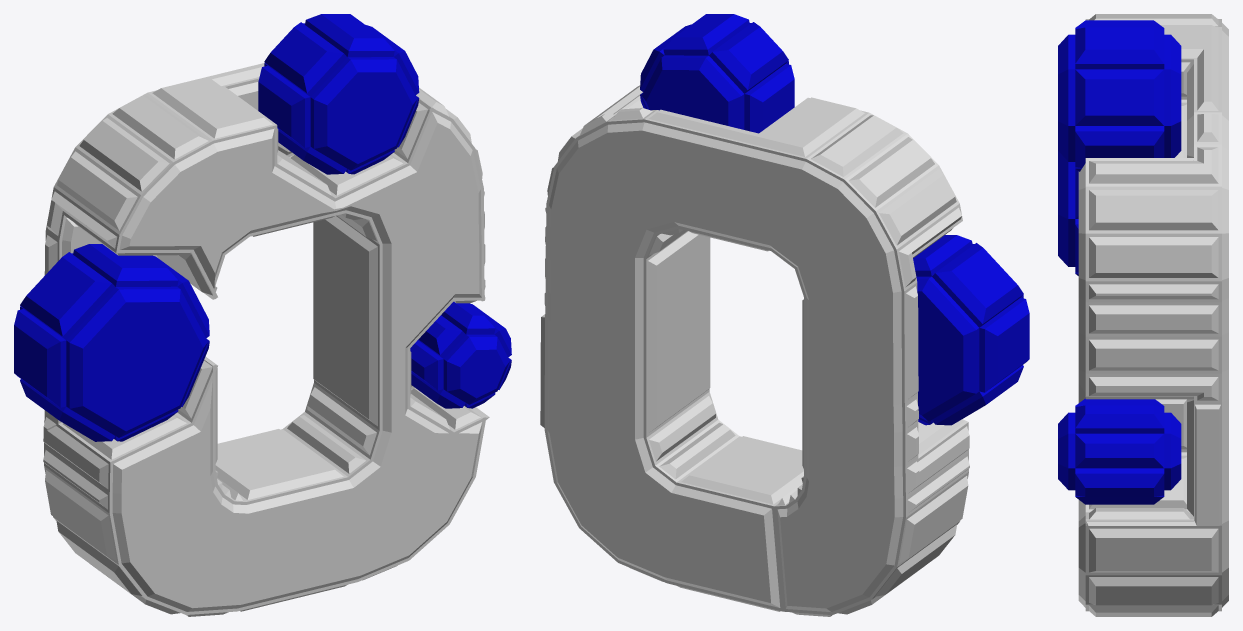
3 renders of one model, left to right at view 1: azimuth 30°, elevation 25°; view 2: azimuth 150°, elevation 25°; view 3: azimuth 270°, elevation 25°, orthographic. The views are drawn at different scales.
Visible parts, largest first — view 1: sphere1; view 2: sphere1; view 3: sphere1.
Part boxes in pixels (x1,y1,x2,y2): sphere1: [14, 14, 511, 616]; sphere1: [540, 14, 1029, 616]; sphere1: [1058, 14, 1228, 616].
Size of the model in its own units: 0.8146 by 0.9243 by 0.2503.
